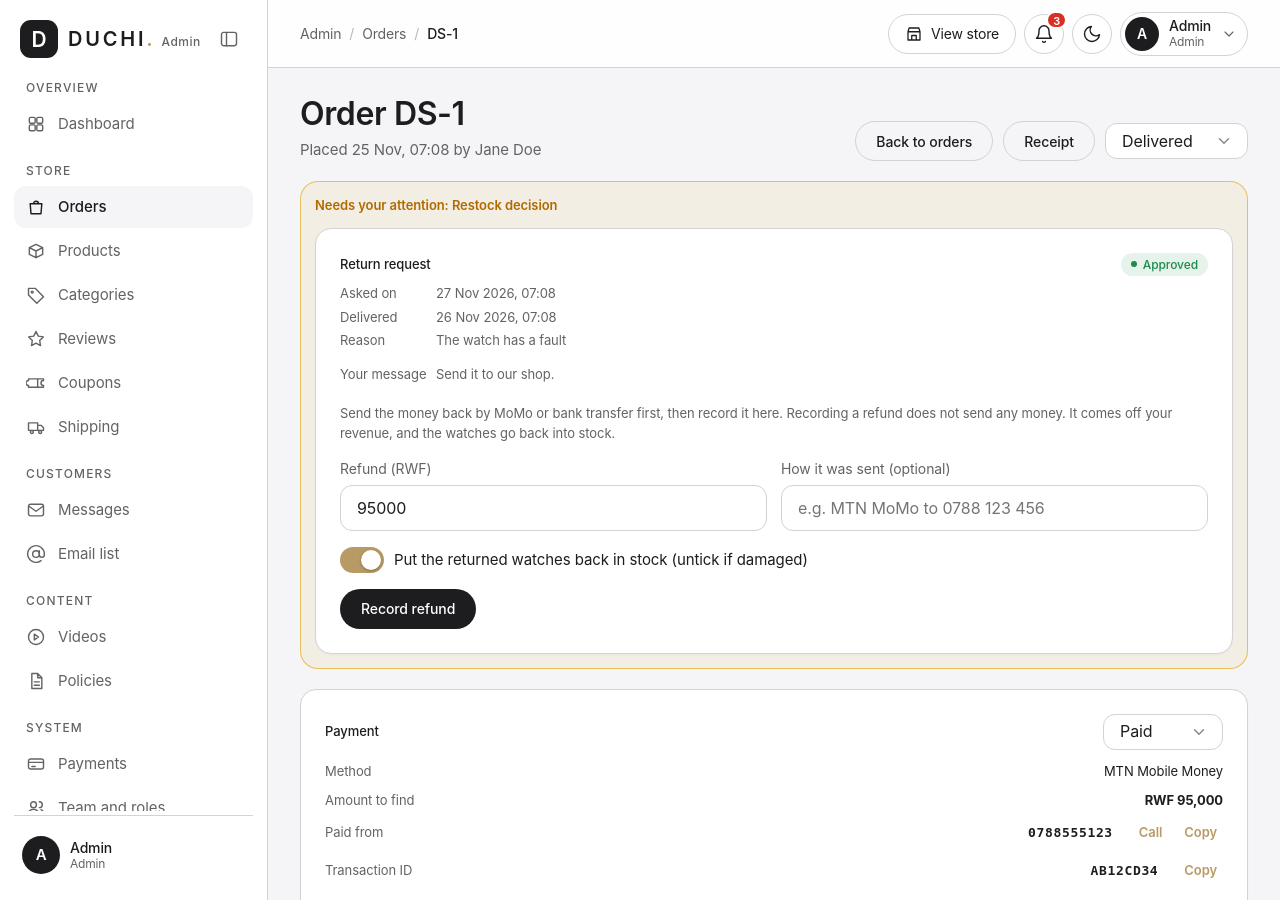
Test: a refund on a returned order puts the watches back in stock by itself › unticking keeps a damaged watch out of the stock
Click the checkbox labelled "Put the returned watches back in stock (untick if damaged)": (362, 560) x1=340 y1=547 x2=384 y2=573
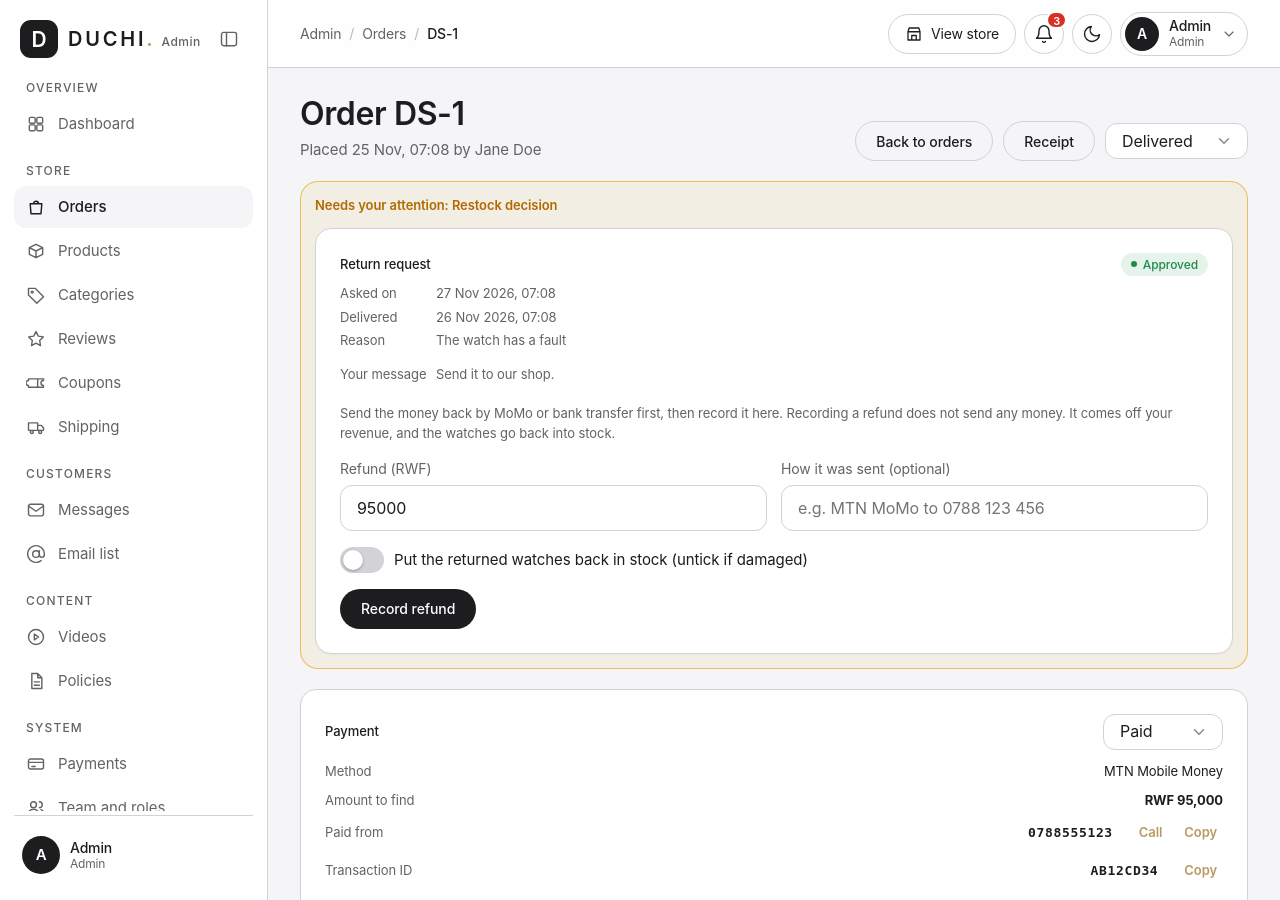
Submit the text "Record refund", box x1=340 y1=361 x2=1208 y2=629
(page scrolled)
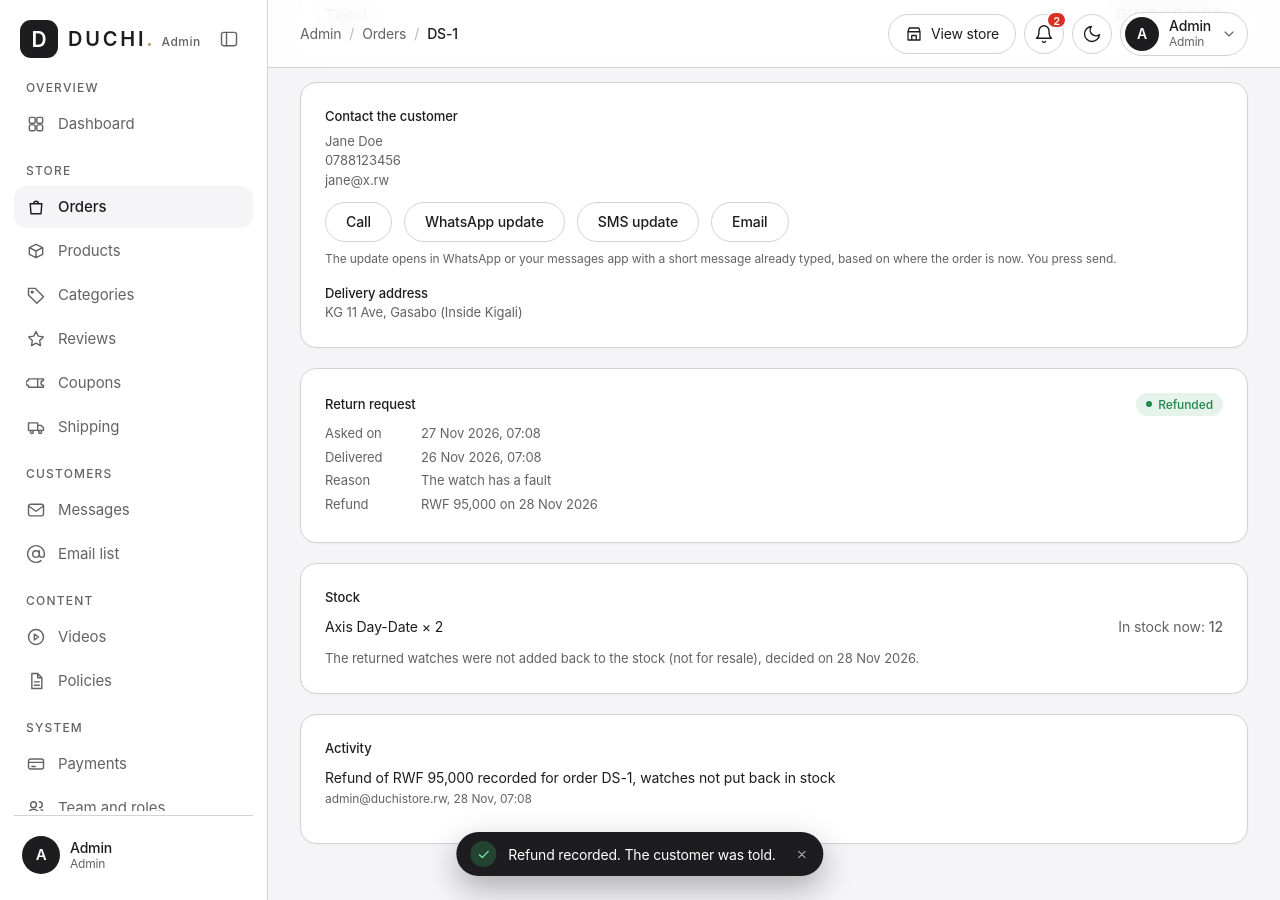
Expected: the text "were not added back to the stock" is shown, x1=325 y1=650 x2=837 y2=666
